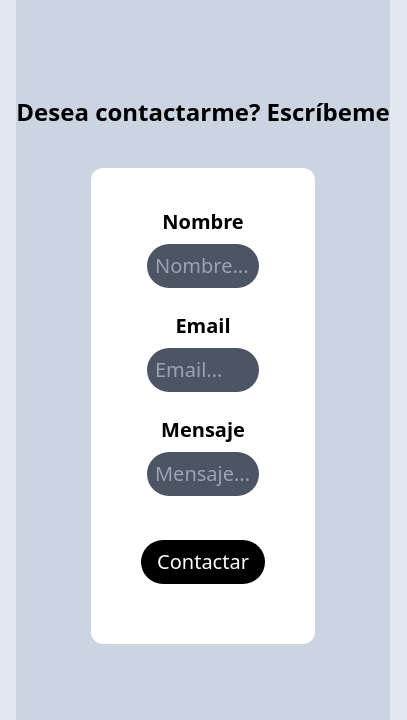
Scenario: ContactForm component › Valida el envío del formulario y el manejo de errores
The width and height of the screenshot is (407, 720).
Click the button "Contactar": (203, 562) 141,540 -> 265,584
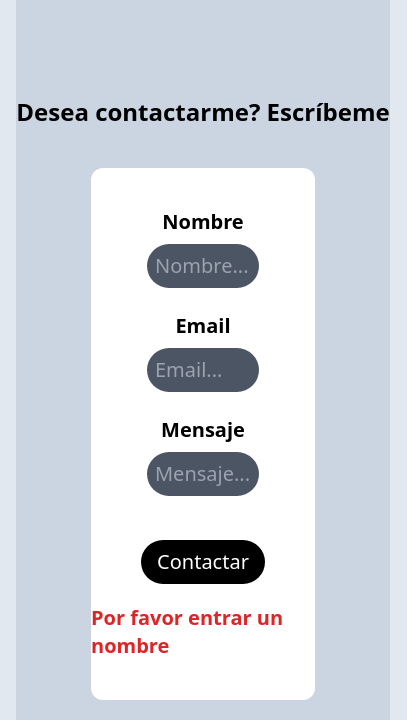
Now the text "Por favor entrar un nombre" is shown, box 91,604 -> 315,660
